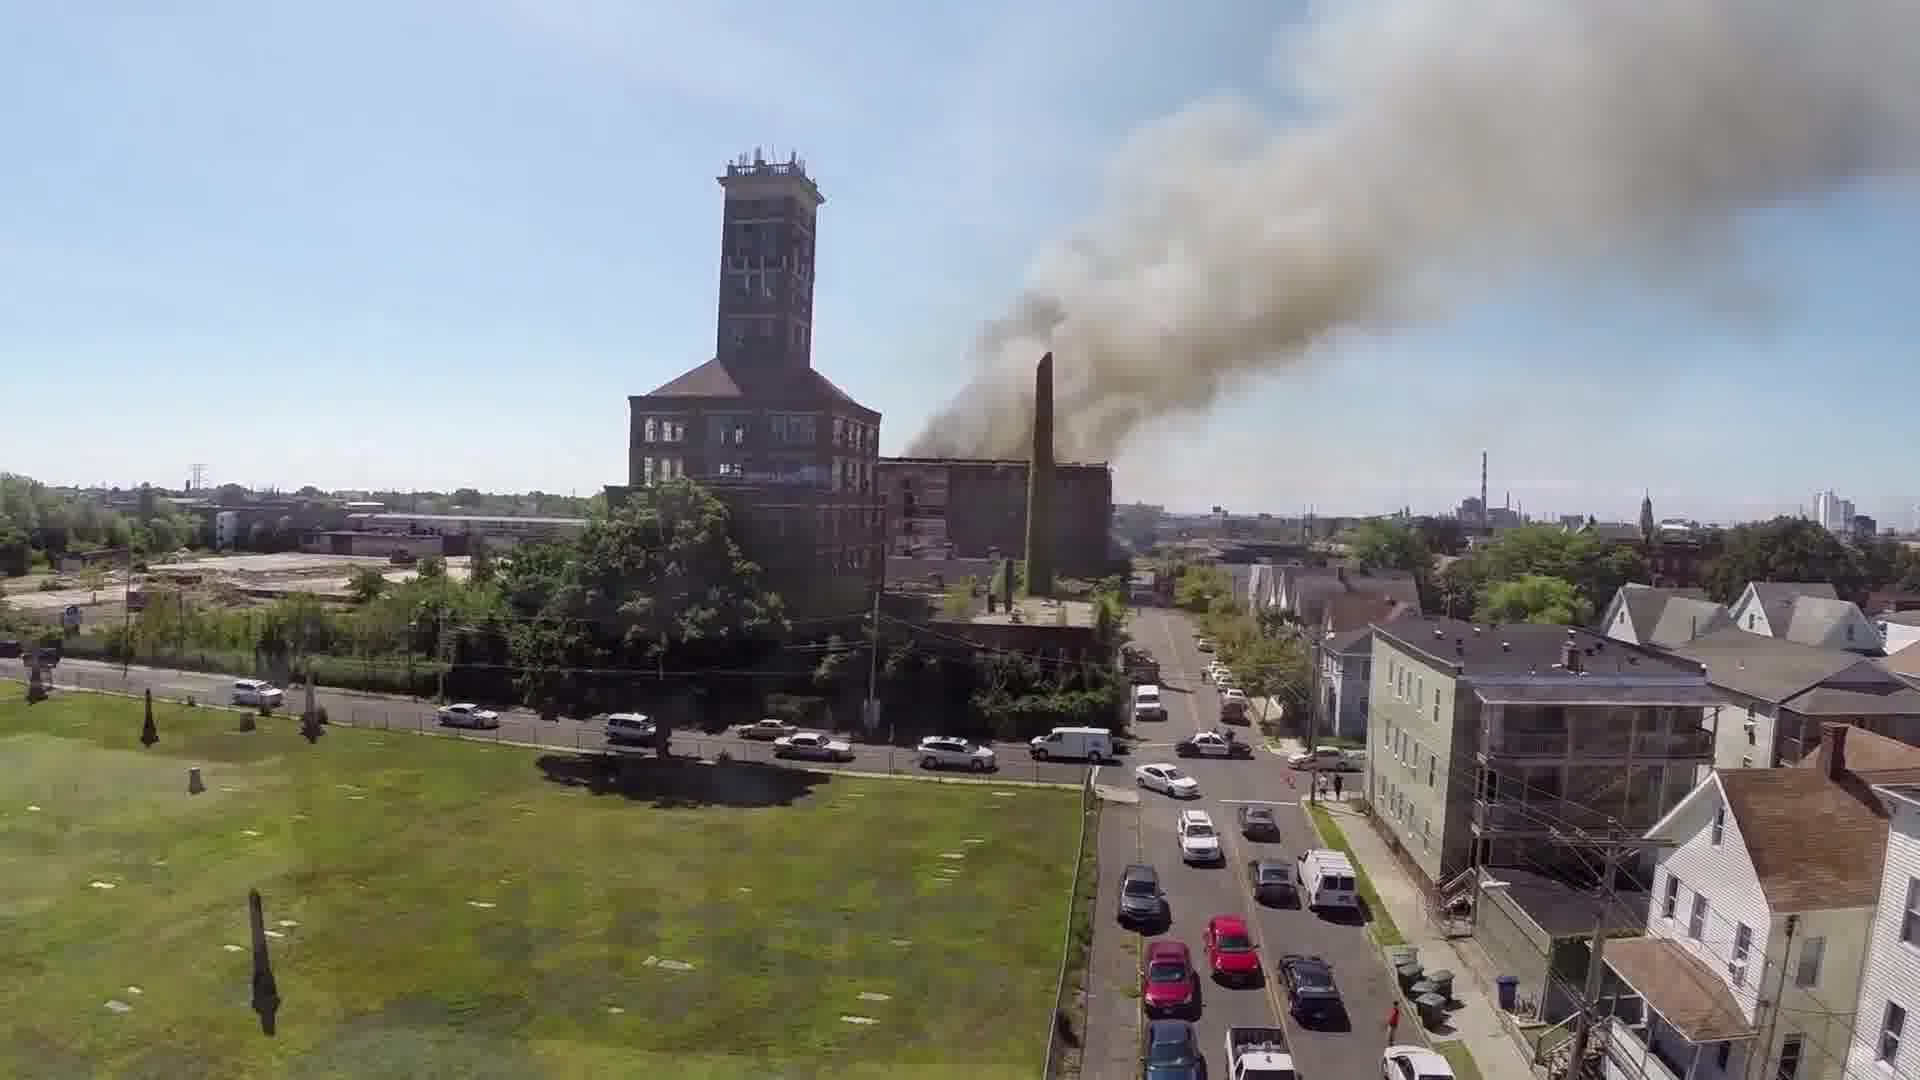smoke: (1379, 21, 1741, 223), (1174, 138, 1369, 338), (998, 291, 1162, 450)
